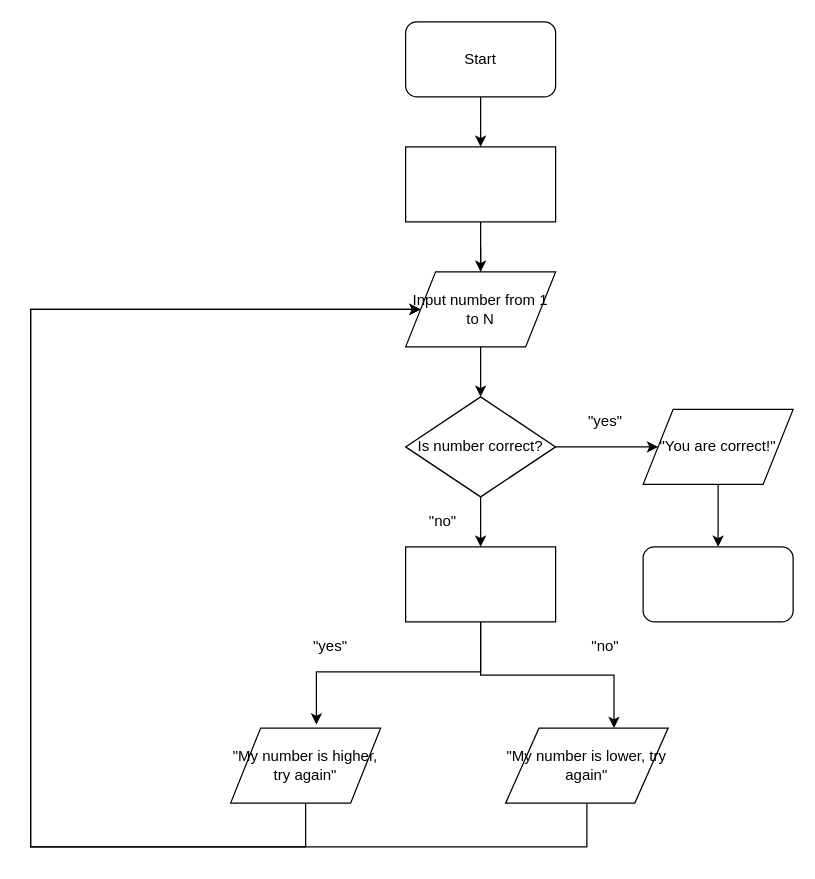
This 815x879 diagram has some shape labels left out. The shapes that lost their labels are listed below. From the top down, each one's centre as x and y in pixels, then its label:
At (x=480, y=184): "Creates a number from 1 to N".
At (x=480, y=584): "Is the number bigger?".
At (x=717, y=584): "End".
